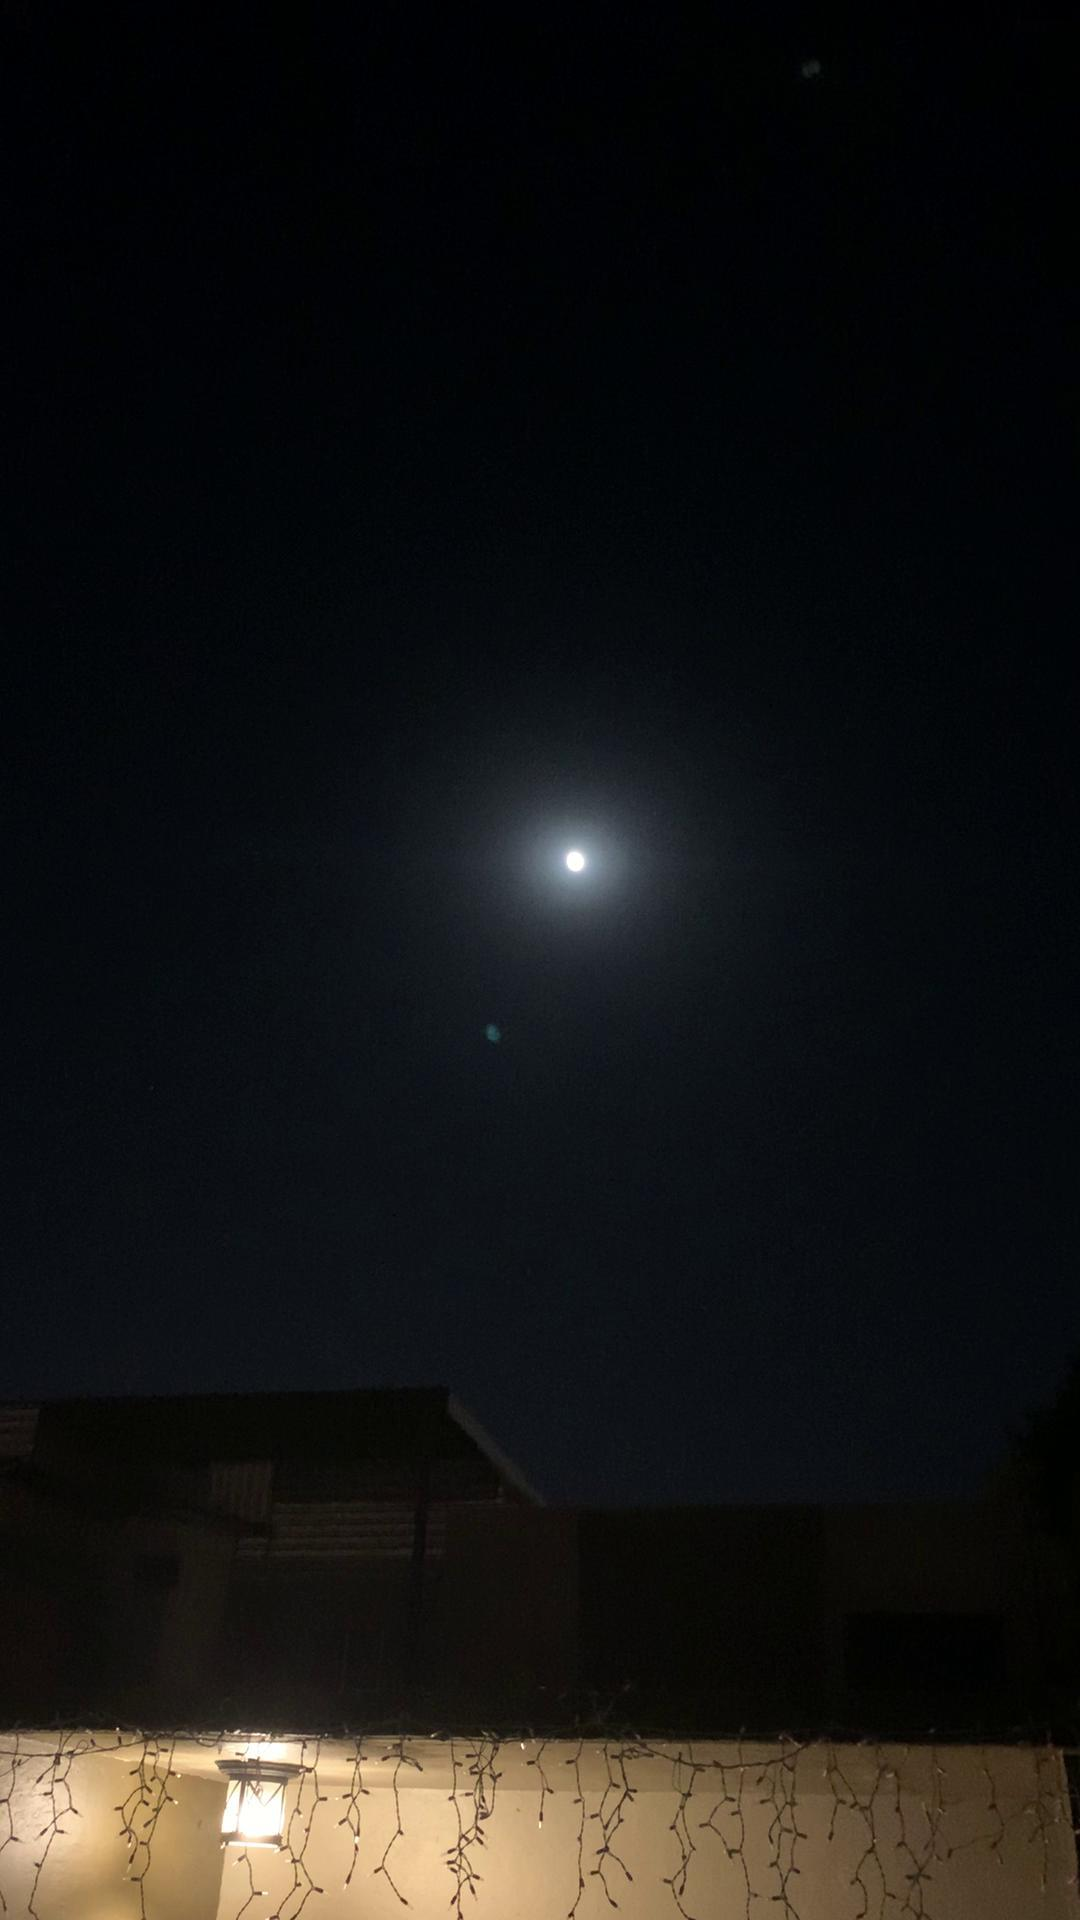moon: (531, 814, 618, 910)
